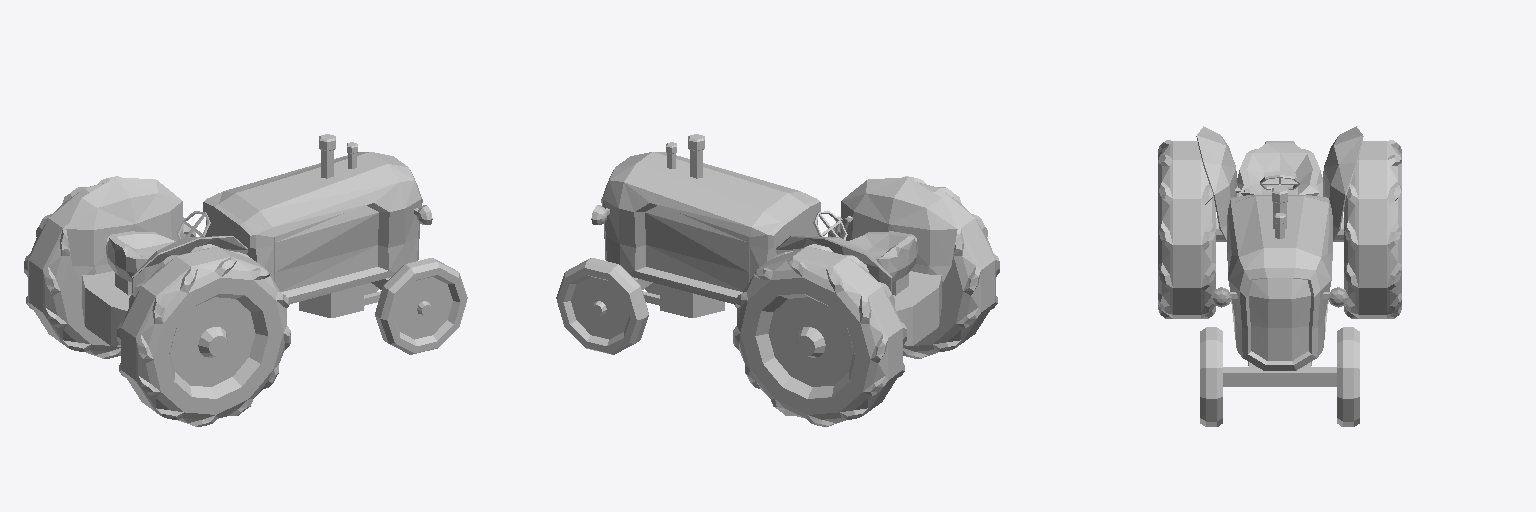
The model's file is Tractor2.obj.
The picture shows the model from 3 angles: view 1: azimuth 30°, elevation 25°; view 2: azimuth 150°, elevation 25°; view 3: azimuth 270°, elevation 25°; orthographic projection.
Parts seen in each view (by area): view 1: Tractor; view 2: Tractor; view 3: Tractor.
Part boxes in pixels (x1,y1,x2,y2): Tractor: (24, 134, 467, 426); Tractor: (556, 134, 999, 426); Tractor: (1158, 126, 1401, 426).
Bounding box in the file's own units: 15.49 × 8.62 × 9.35.